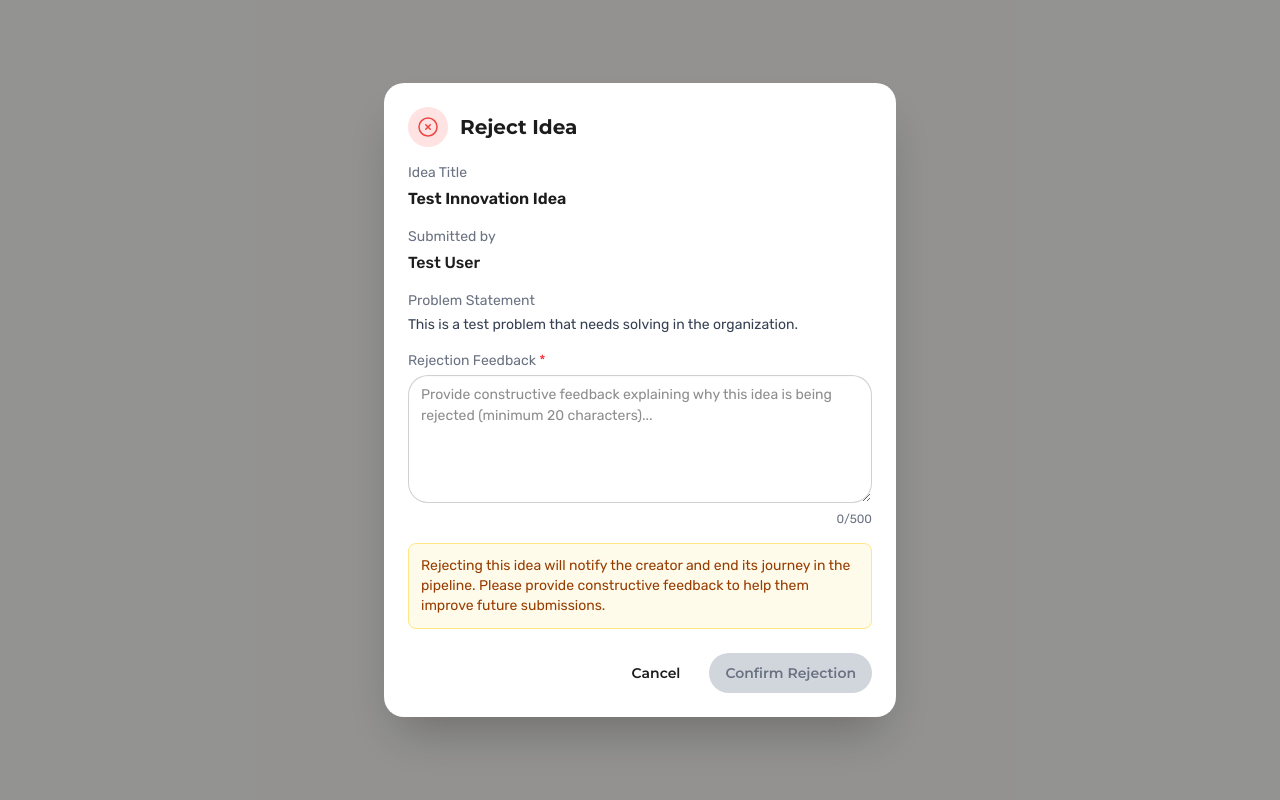
Test: RejectIdeaModal - Story 5.5 Task 4 › Subtask 4.5: Character counter › updates character counter as user types
Type "This is test feedback" into the text box labelled "Rejection Feedback *".
click(640, 439); type("This is test feedback")  # box left=408, top=375, right=872, bottom=503
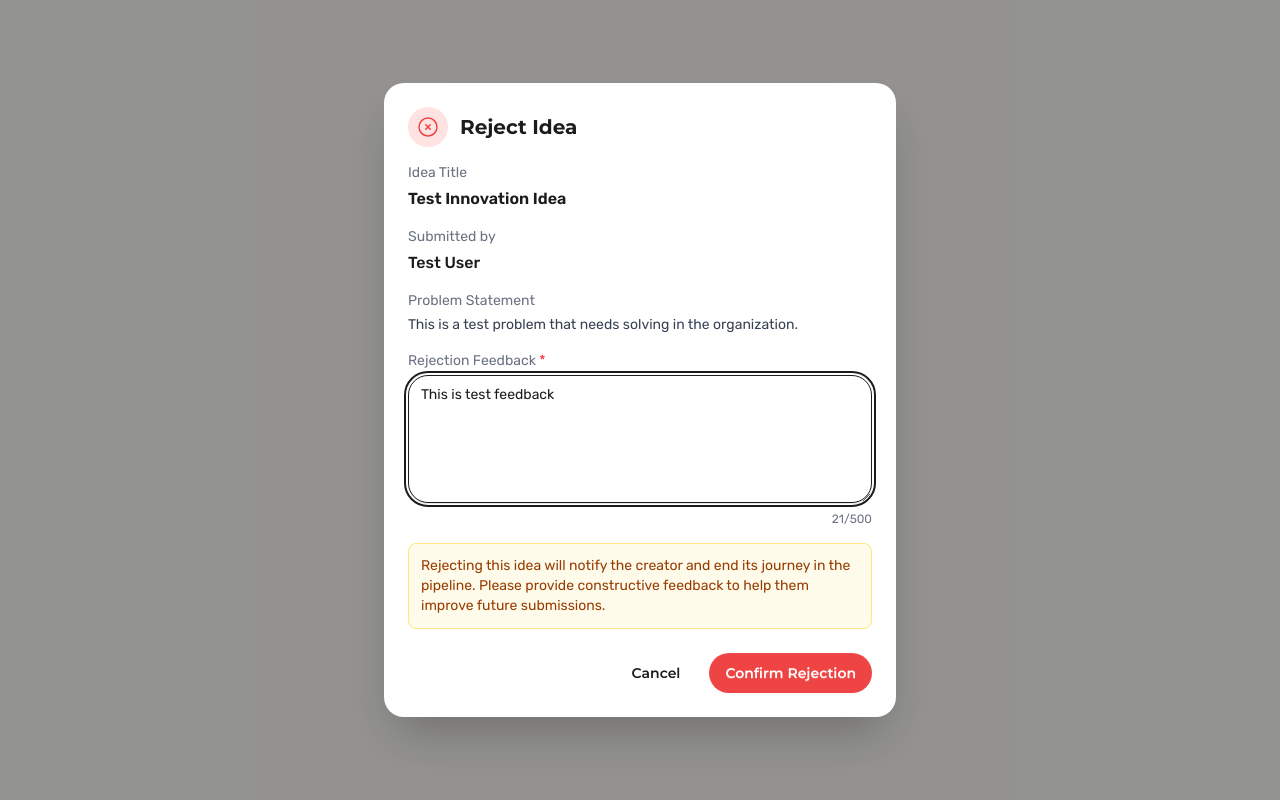
Check: the text "21/500" is shown, box left=832, top=511, right=872, bottom=527
